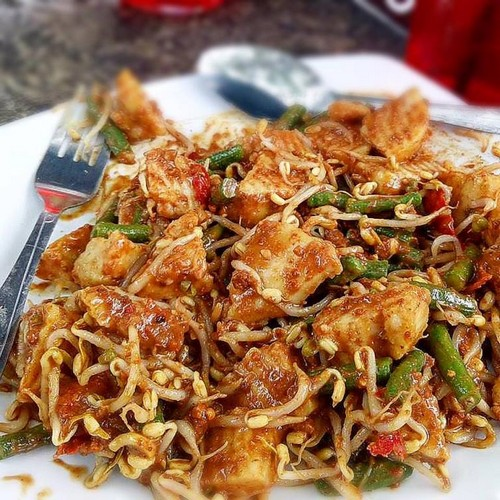tipat cantok: (45, 130, 460, 482)
